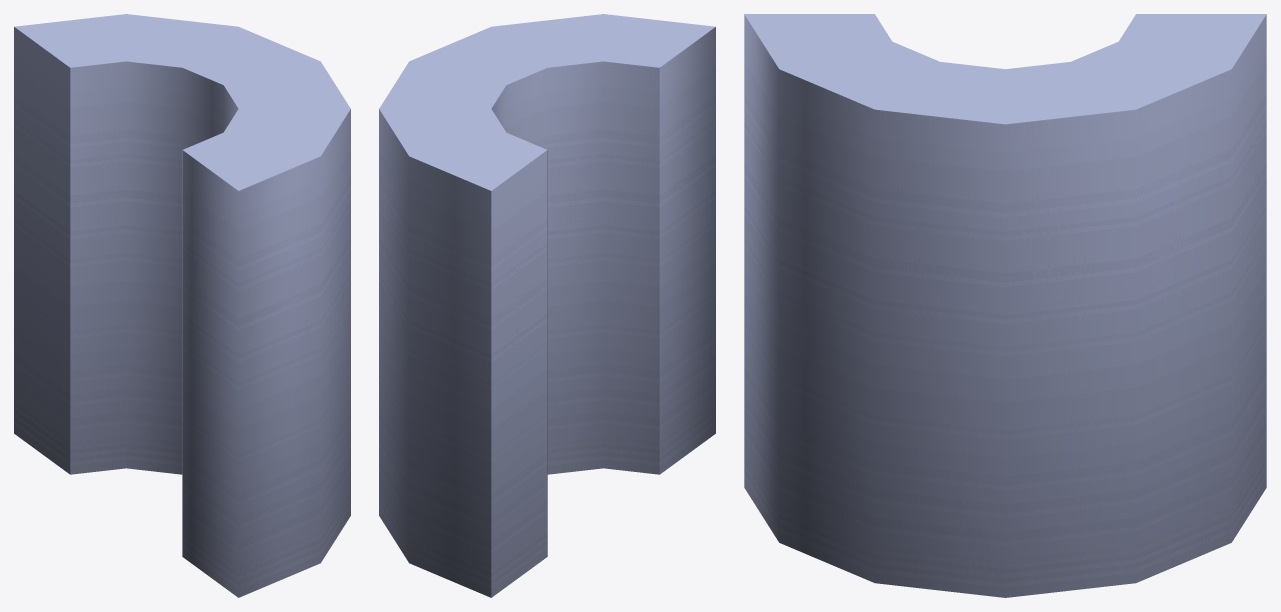
File: shape-hollow-cylinder-half.glb
3 views of the same model, side by side, from view 1: azimuth 30°, elevation 25°; view 2: azimuth 150°, elevation 25°; view 3: azimuth 270°, elevation 25° (orthographic). The views are drawn at different scales.
Visible parts, largest first — view 1: shape-hollow-cylinder-half; view 2: shape-hollow-cylinder-half; view 3: shape-hollow-cylinder-half.
Boxes of the visible parts, x1=… form: shape-hollow-cylinder-half: x1=14, y1=14, x2=350, y2=597; shape-hollow-cylinder-half: x1=379, y1=14, x2=715, y2=597; shape-hollow-cylinder-half: x1=744, y1=14, x2=1266, y2=597.
Size of the model in its own units: 0.5 by 1 by 1.
1 material, 1 textured.
